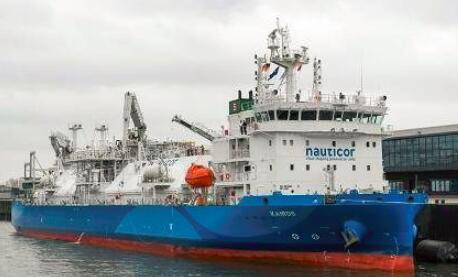Cargoship: (7, 21, 428, 268)
